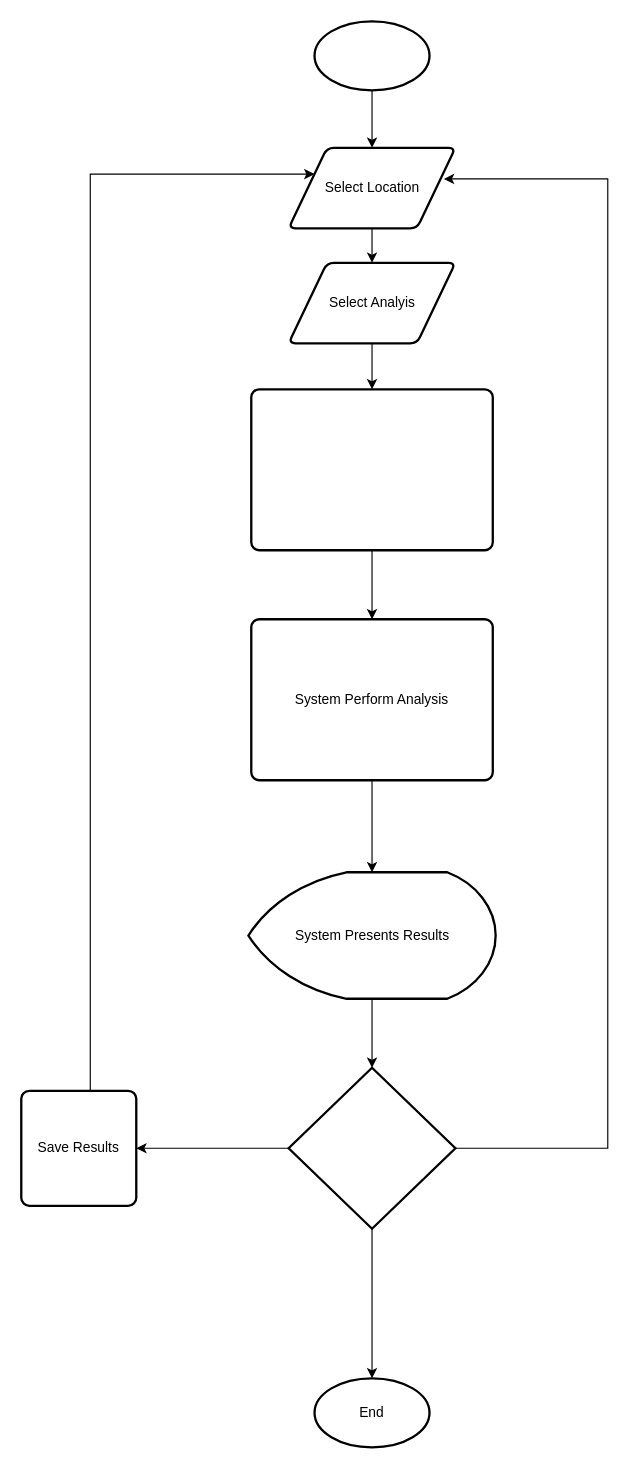
The diagram is 637 pixels wide and 1467 high, and some of its shapes have lost their labels. The centre of each missing label's shape, as x and y in pixels:
Start: the point at 371,55
System Retrieves Solar Data: the point at 371,469
User decide: the point at 371,1147
